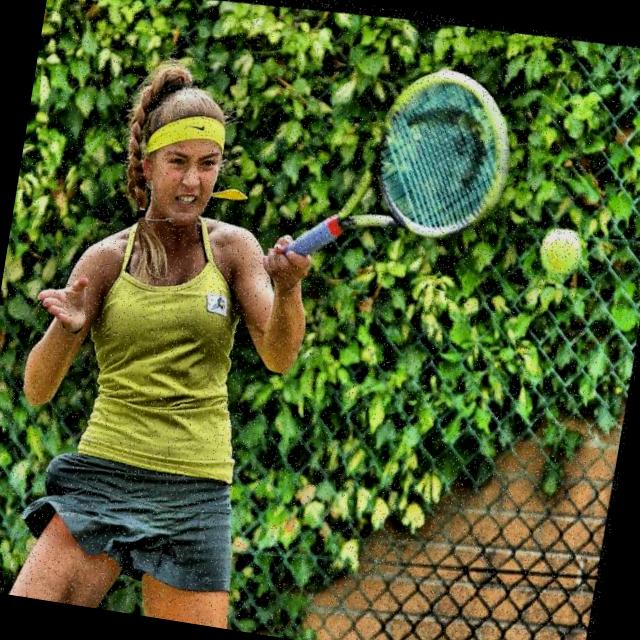Tennis Ball: (529, 224, 586, 281)
